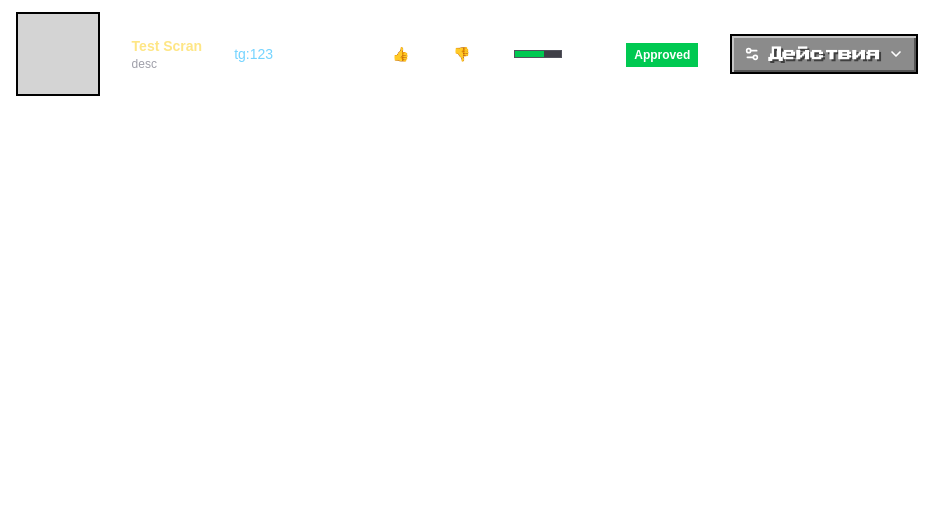
Test case: ScranRow permissions (Moderator vs Admin) › shows unpublish and delete in the admin actions menu for approved items
Click the button with aria-label "Действия для Test Scran".
click(824, 54)  # box x1=730 y1=34 x2=918 y2=74
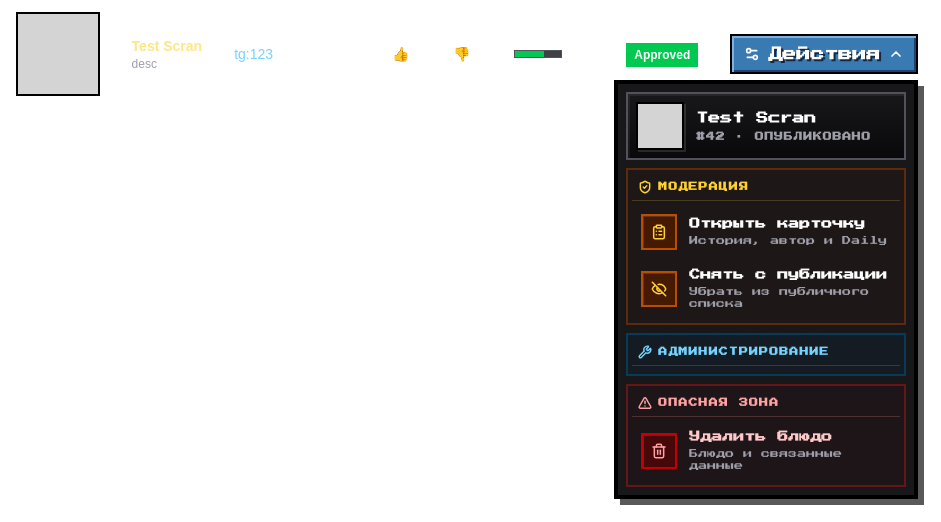
Check: the heading "Модерация" is shown, box x1=632 y1=174 x2=900 y2=201
Check: the heading "Администрирование" is shown, box x1=632 y1=339 x2=900 y2=366
Check: the heading "Опасная зона" is shown, box x1=632 y1=390 x2=900 y2=417
